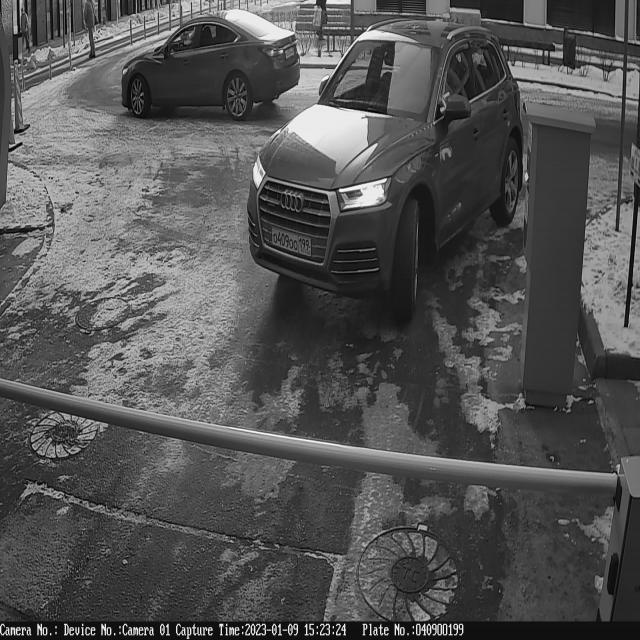car-plate-numbers: (269, 221, 314, 260)
